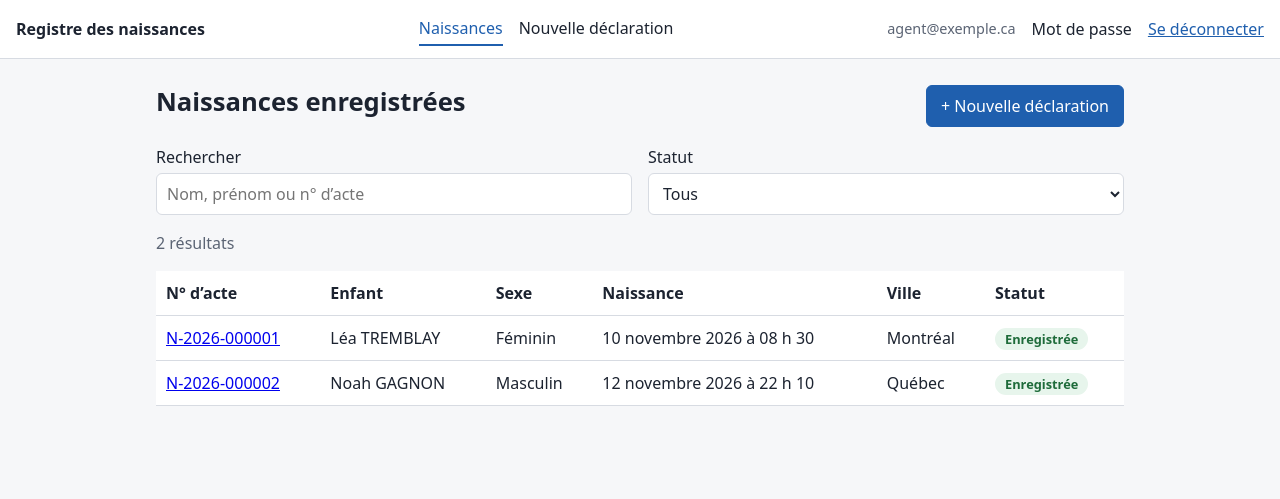
Scenario: Connexion › se déconnecte et revient à l’écran de connexion
The width and height of the screenshot is (1280, 499).
expect the table is shown: met, box [156, 271, 1124, 406]
Step 1. Click the button "Se déconnecter" → (1206, 29), box [1148, 13, 1264, 45]
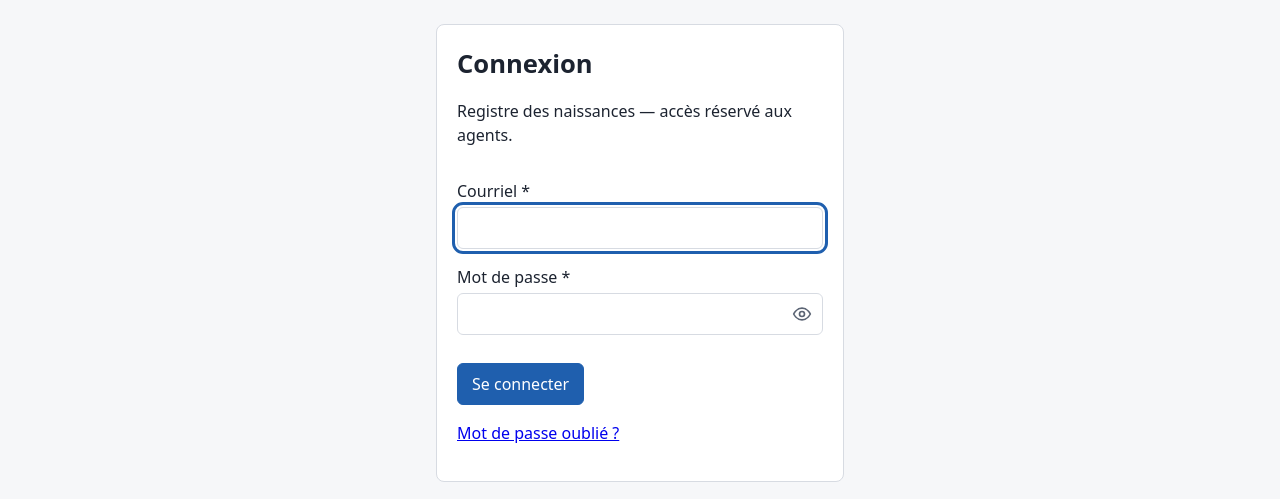
expect the heading "Connexion" is shown: met, box [457, 46, 593, 81]
